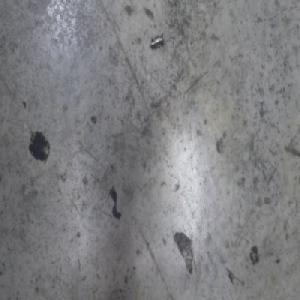Bolt: (149, 31, 164, 49)
